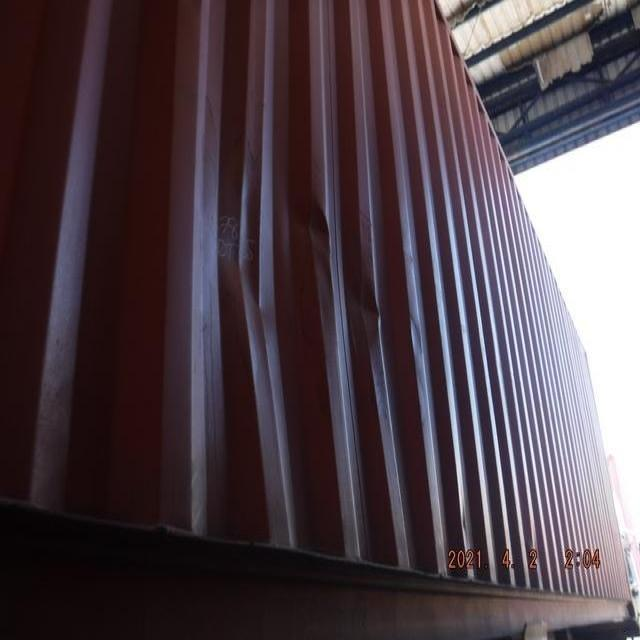Dent: (160, 160, 389, 404)
